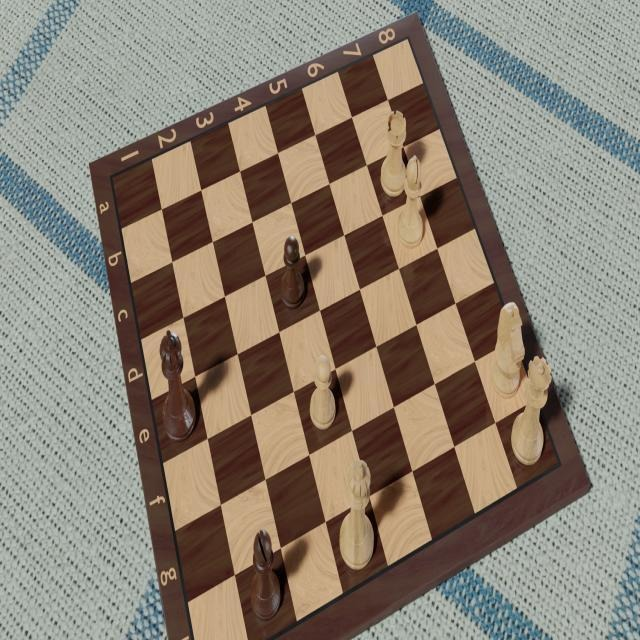black-bishop: (247, 526, 285, 628)
black-king: (158, 326, 202, 449)
black-pawn: (276, 234, 309, 316)
white-bishop: (394, 151, 427, 252)
white-king: (336, 455, 379, 581)
white-knight: (489, 301, 525, 407)
white-pawn: (309, 350, 339, 438)
white-queen: (509, 352, 554, 467)
white-rook: (379, 105, 411, 202)
